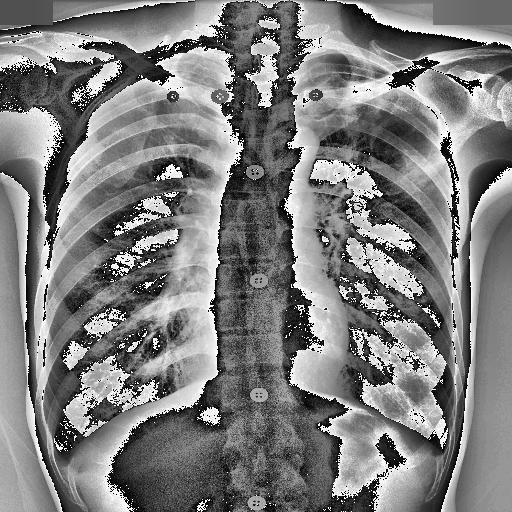10- Pleural effusion: (46, 445, 82, 475), (428, 444, 452, 468), (424, 441, 451, 461), (51, 453, 79, 472), (54, 454, 77, 476)
11- Pleural thickening: (46, 445, 82, 475), (146, 50, 188, 66), (428, 444, 452, 468), (424, 441, 451, 461), (51, 453, 79, 472), (54, 454, 77, 476)
13- Pulmonary fibrosis: (304, 62, 421, 174), (334, 77, 446, 192), (341, 76, 438, 182), (164, 61, 212, 115)
6- Infiltration: (334, 77, 446, 192)
7- Lung Opacity: (166, 54, 210, 96), (178, 68, 217, 88)
